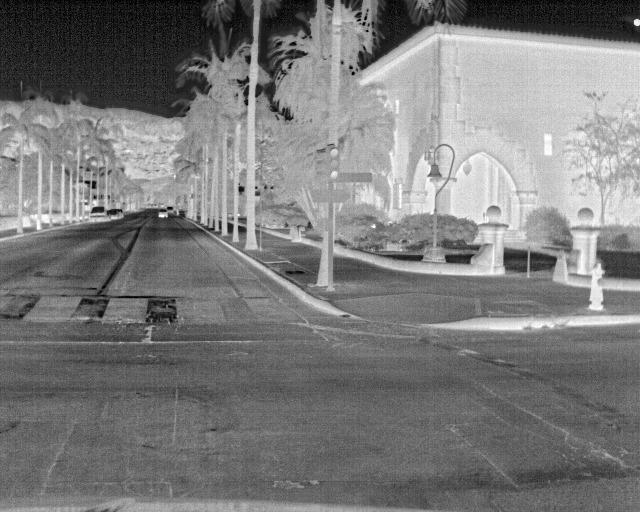car: (89, 208, 107, 221), (107, 208, 120, 222), (157, 207, 171, 219), (164, 204, 176, 217)
